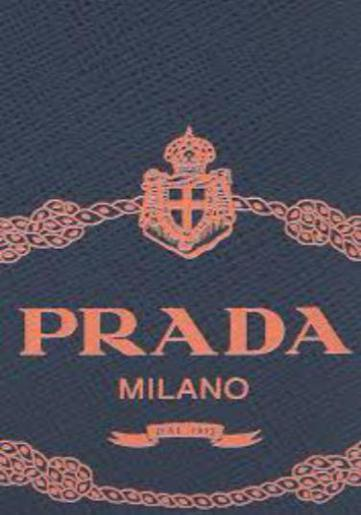PRADA: (18, 292, 354, 370)
